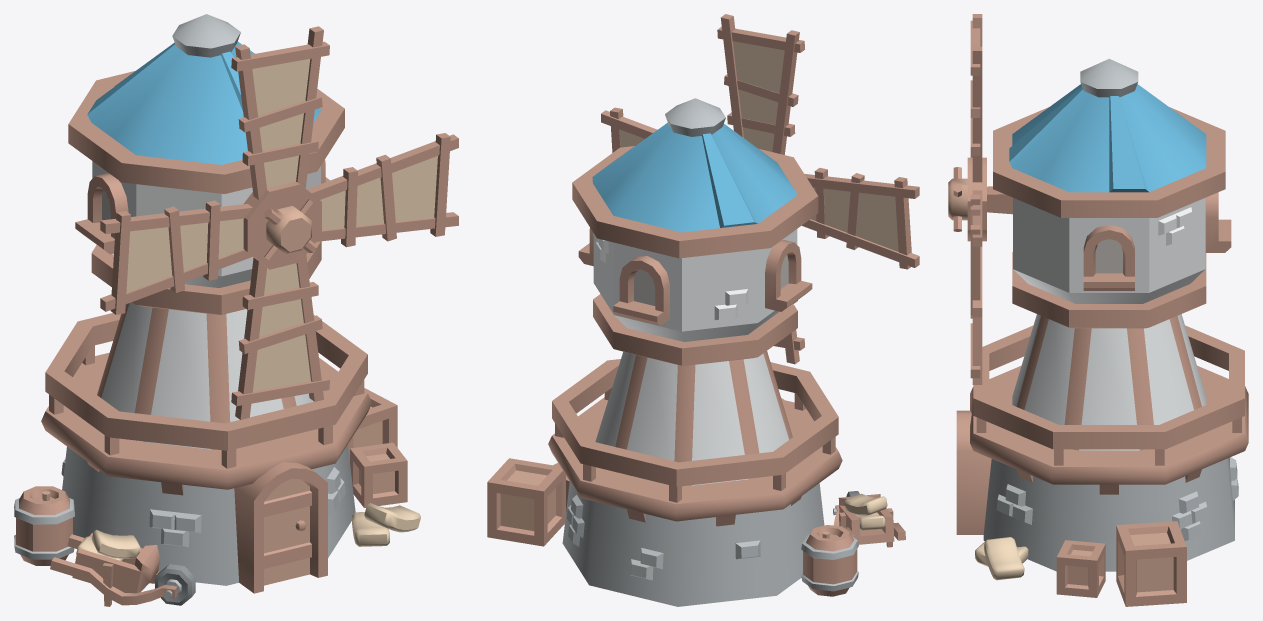
File: windmill_part.glb
The picture shows the model from 3 angles, left to right: view 1: azimuth 30°, elevation 25°; view 2: azimuth 150°, elevation 25°; view 3: azimuth 270°, elevation 25°; orthographic projection. The views are drawn at different scales.
Parts seen in each view (by area): view 1: X_building_windmill_blue, X_building_windmill_top_fan_blue, X_building_windmill_top_blue; view 2: X_building_windmill_blue, X_building_windmill_top_blue, X_building_windmill_top_fan_blue; view 3: X_building_windmill_blue, X_building_windmill_top_blue, X_building_windmill_top_fan_blue.
Part boxes in pixels (bbox=[...]): X_building_windmill_blue: bbox=[14, 302, 420, 606]; X_building_windmill_top_fan_blue: bbox=[100, 26, 458, 419]; X_building_windmill_top_blue: bbox=[68, 14, 344, 314]; X_building_windmill_blue: bbox=[487, 351, 905, 606]; X_building_windmill_top_blue: bbox=[572, 98, 818, 365]; X_building_windmill_top_fan_blue: bbox=[601, 14, 919, 364]; X_building_windmill_blue: bbox=[956, 314, 1248, 606]; X_building_windmill_top_blue: bbox=[987, 58, 1231, 328]; X_building_windmill_top_fan_blue: bbox=[948, 14, 986, 384].
Size of the model in its own units: 1.13 by 1.46 by 0.8165.
